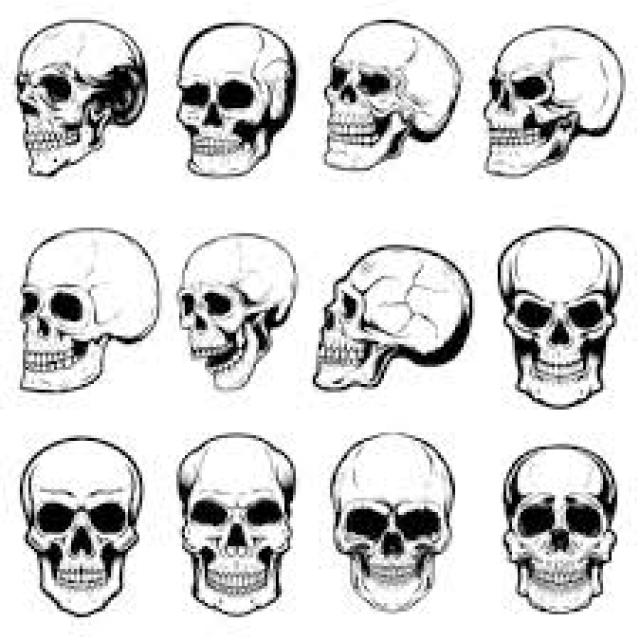skull: (5, 221, 164, 407), (324, 429, 465, 621)
